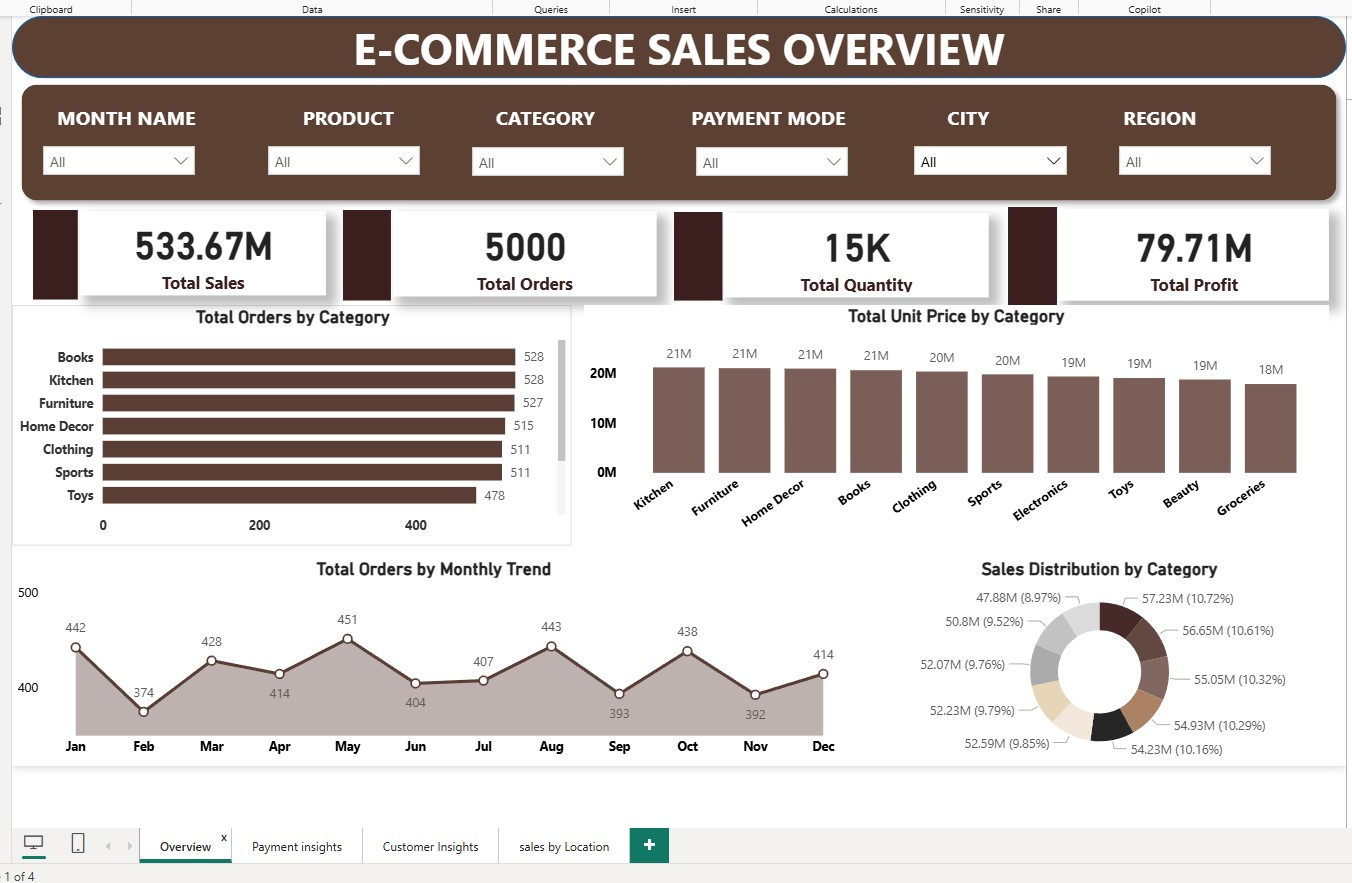

Layout of this report page (visuals, bound fields, positions):
{"tool":"powerbi","page":{"name":"Overview","canvas":[1280,720],"ordinal":0},"visuals":[{"type":"shape","box":[0,0,1280,59.8],"z":0},{"type":"card","title":"TOTAL SALES","fields":{"Values":["Ecommerce_Sales_Data_2024_2025.Total Profit"]},"box":[1004.3,184.8,259.3,88.1],"z":0,"group":"g2"},{"type":"card","title":"TOTAL SALES","fields":{"Values":["Ecommerce_Sales_Data_2024_2025.Total Sales"]},"box":[64.8,187,236,81.3],"z":0,"group":"g1"},{"type":"card","title":"TOTAL SALES","fields":{"Values":["Ecommerce_Sales_Data_2024_2025.Total Orders"]},"box":[365.6,187,252.7,82.2],"z":0,"group":"g3"},{"type":"card","title":"TOTAL SALES","fields":{"Values":["Ecommerce_Sales_Data_2024_2025.Total Quantity"]},"box":[683.3,188.6,254,80.6],"z":0,"group":"g4"},{"type":"shape","box":[0,56.5,1280,129.4],"z":1000,"group":"g5"},{"type":"shape","box":[955.8,182.9,47.2,94.7],"z":1000,"group":"g2"},{"type":"shape","box":[19.9,186.2,43.2,85.9],"z":1000,"group":"g1"},{"type":"shape","box":[317.5,186.2,46.3,86.8],"z":1000,"group":"g3"},{"type":"shape","box":[635,187.8,46.5,85.2],"z":1000,"group":"g4"},{"type":"clusteredBarChart","title":"Total Orders by Category","fields":{"Category":["Ecommerce_Sales_Data_2024_2025.Category"],"Y":["CountNonNull(Ecommerce_Sales_Data_2024_2025.Order ID)"]},"box":[0,277.6,536.9,231.1],"z":1000},{"type":"textbox","box":[38.2,80,1193.6,34.9],"z":2000,"group":"g5"},{"type":"lineChart","title":"Total Orders by Monthly Trend","fields":{"Category":["DateTable.Month Name"],"Y":["CountNonNull(Ecommerce_Sales_Data_2024_2025.Order ID)"]},"box":[0,520.3,809.6,199.5],"z":2000},{"type":"slicer","fields":{"Values":["DateTable.Month Name"]},"box":[19.9,114.7,164.6,59.8],"z":3000,"group":"g5"},{"type":"donutChart","title":"Sales Distribution by Category","fields":{"Category":["Ecommerce_Sales_Data_2024_2025.Category"],"Y":["Ecommerce_Sales_Data_2024_2025.Total Sales"]},"box":[822.9,520.3,440.5,199.5],"z":3000},{"type":"slicer","fields":{"Values":["Ecommerce_Sales_Data_2024_2025.Product Name"]},"box":[236.1,114.7,164.6,54.9],"z":4000,"group":"g5"},{"type":"group","id":"g1","title":"Group 1","box":[19.9,186.2,280.9,86.4],"z":4000},{"type":"slicer","fields":{"Values":["Ecommerce_Sales_Data_2024_2025.Category"]},"box":[432.2,116.3,164.6,56.5],"z":5000,"group":"g5"},{"type":"group","id":"g2","title":"Group 1","box":[955.8,182.9,307.8,94.7],"z":5000},{"type":"slicer","fields":{"Values":["Ecommerce_Sales_Data_2024_2025.Payment Mode"]},"box":[646.6,116.3,164.6,56.5],"z":6000,"group":"g5"},{"type":"group","id":"g3","title":"Group 1","box":[317.5,186.2,300.9,86.4],"z":6000},{"type":"slicer","fields":{"Values":["Ecommerce_Sales_Data_2024_2025.City"]},"box":[856.1,114.7,166.2,53.2],"z":7000,"group":"g5"},{"type":"group","id":"g4","title":"Group 1","box":[635,187.8,302.5,84.8],"z":7000},{"type":"group","id":"g5","title":"Group 2","box":[0,56.5,1280,129.4],"z":8000},{"type":"slicer","fields":{"Values":["Ecommerce_Sales_Data_2024_2025.Region"]},"box":[1052.3,114.7,164.6,53.2],"z":8000,"group":"g5"},{"type":"clusteredColumnChart","title":"Total Unit Price by Category","fields":{"Category":["Ecommerce_Sales_Data_2024_2025.Category"],"Y":["Sum(Ecommerce_Sales_Data_2024_2025.Unit Price)"]},"box":[548.6,277.6,714.8,231.1],"z":9000}]}

Visuals, with their boxes on the page's 1280x720 design canvas (x1, y1, x2, y2). These are canvas units, not pixel positions in the 1352x883 screenshot, which may show the page scaled, cropped or inside an application window:
shape: Rect(0, 0, 1280, 60)
"TOTAL SALES" card: Rect(1004, 185, 1264, 273)
"TOTAL SALES" card: Rect(65, 187, 301, 268)
"TOTAL SALES" card: Rect(366, 187, 618, 269)
"TOTAL SALES" card: Rect(683, 189, 937, 269)
shape: Rect(0, 56, 1280, 186)
shape: Rect(956, 183, 1003, 278)
shape: Rect(20, 186, 63, 272)
shape: Rect(318, 186, 364, 273)
shape: Rect(635, 188, 682, 273)
"Total Orders by Category" clusteredBarChart: Rect(0, 278, 537, 509)
textbox: Rect(38, 80, 1232, 115)
"Total Orders by Monthly Trend" lineChart: Rect(0, 520, 810, 720)
slicer - DateTable.Month Name: Rect(20, 115, 184, 174)
"Sales Distribution by Category" donutChart: Rect(823, 520, 1263, 720)
slicer - Ecommerce_Sales_Data_2024_2025.Product Name: Rect(236, 115, 401, 170)
"Group 1" group: Rect(20, 186, 301, 273)
slicer - Ecommerce_Sales_Data_2024_2025.Category: Rect(432, 116, 597, 173)
"Group 1" group: Rect(956, 183, 1264, 278)
slicer - Ecommerce_Sales_Data_2024_2025.Payment Mode: Rect(647, 116, 811, 173)
"Group 1" group: Rect(318, 186, 618, 273)
slicer - Ecommerce_Sales_Data_2024_2025.City: Rect(856, 115, 1022, 168)
"Group 1" group: Rect(635, 188, 938, 273)
"Group 2" group: Rect(0, 56, 1280, 186)
slicer - Ecommerce_Sales_Data_2024_2025.Region: Rect(1052, 115, 1217, 168)
"Total Unit Price by Category" clusteredColumnChart: Rect(549, 278, 1263, 509)
